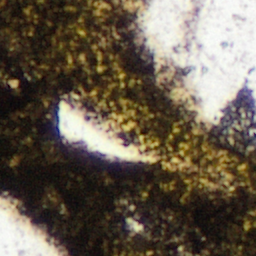cement_matrix: (0, 0, 255, 255), (56, 98, 158, 163), (167, 158, 186, 167), (129, 220, 141, 232)
gravel_crushed_stones: (122, 0, 255, 126), (57, 99, 157, 162), (0, 196, 65, 255), (168, 159, 185, 166), (130, 221, 140, 231), (253, 128, 255, 137)
